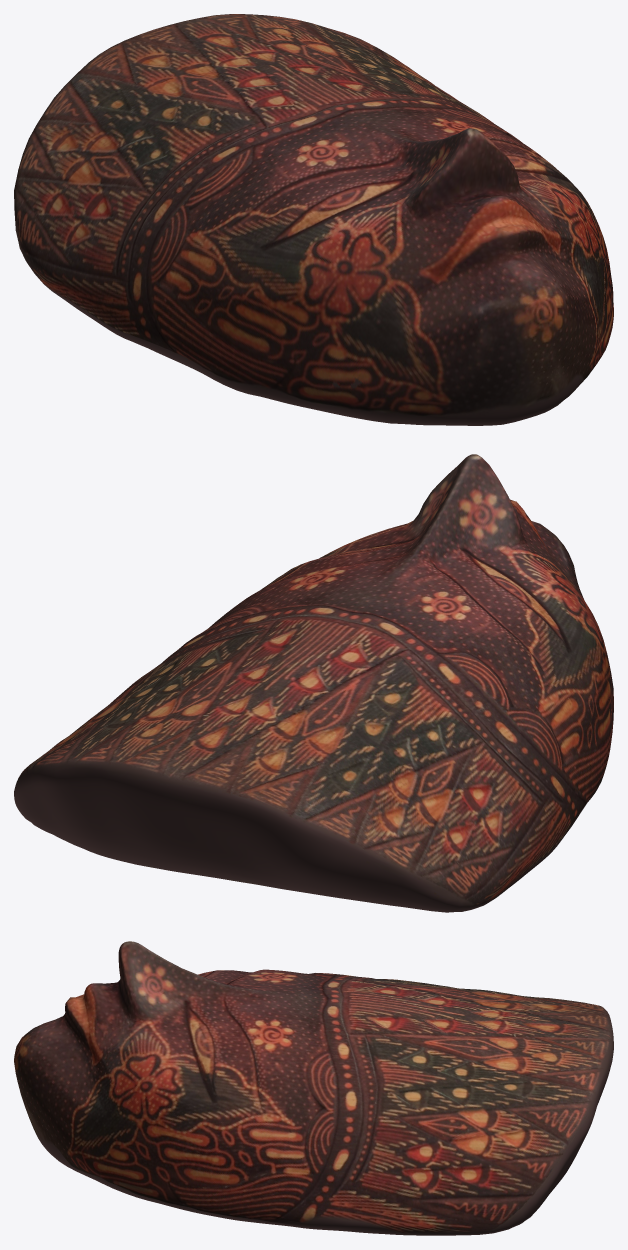
The model's file is mask_low_poly.glb.
The picture shows the model from 3 angles, top to bottom: view 1: azimuth 30°, elevation 25°; view 2: azimuth 150°, elevation 25°; view 3: azimuth 270°, elevation 25°; orthographic projection. The views are drawn at different scales.
Visible parts, largest first — view 1: LR_A; view 2: LR_A; view 3: LR_A.
Boxes of the visible parts, left/top/right/bottom form: LR_A: left=14, top=14, right=613, bottom=425; LR_A: left=14, top=454, right=613, bottom=912; LR_A: left=14, top=941, right=613, bottom=1235.
Size of the model in its own units: 17.38 by 9.36 by 24.3.
2 materials, 2 textured.
